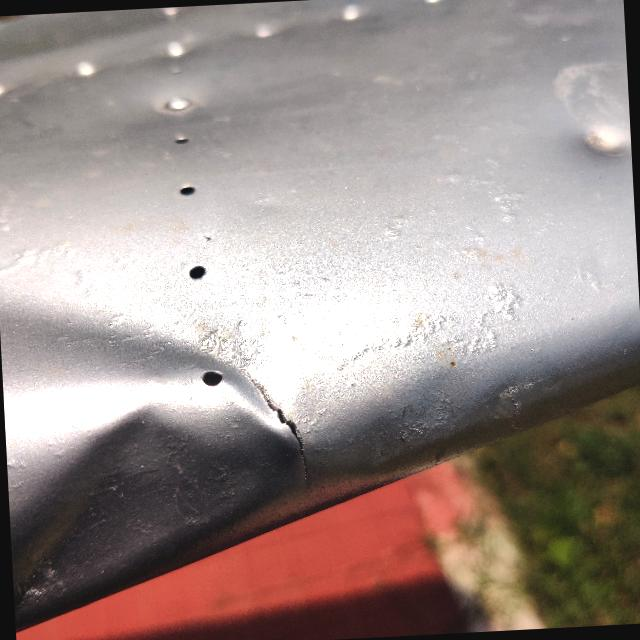dent: (0, 248, 329, 637), (553, 102, 633, 188)
